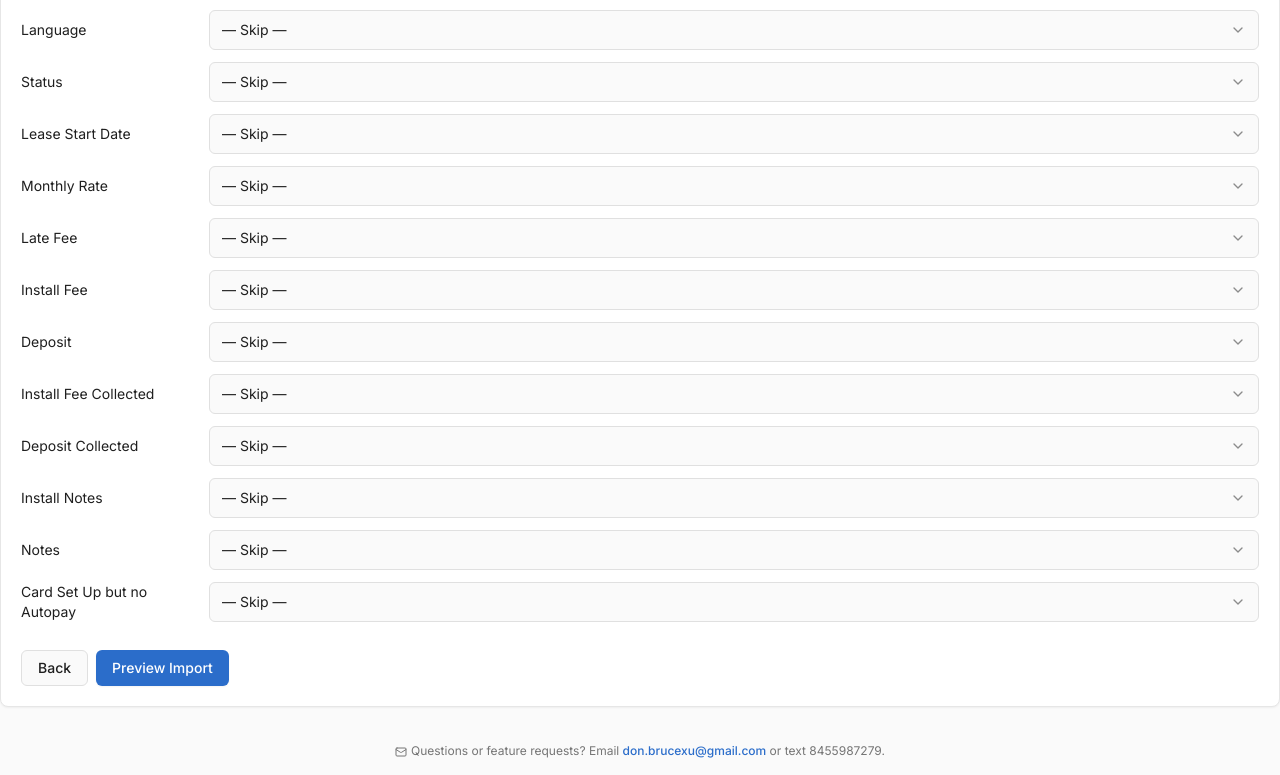
Test case: ImportPage › does not query for duplicates during preview and excludes removed rows from import payload
Earlier steps of the test are not shown.
Later steps or results of the test are not shown.
(page scrolled)
Step 1. Click the button "Preview Import" → click(162, 668), box [96,650,229,686]
(page scrolled)
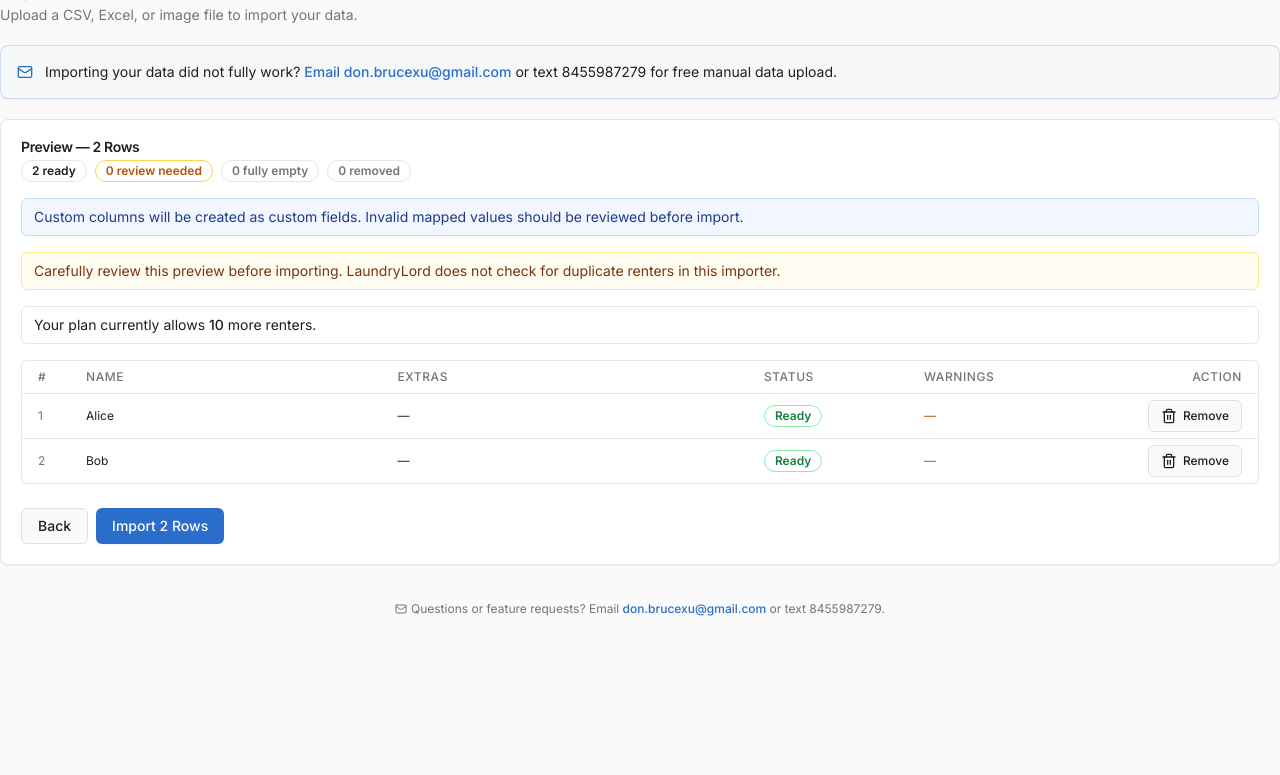
expect the text "Alice" is shown: met, box [70,393,381,438]
Step 2. Click the button "Remove" in the row of "Alice" → click(1195, 416), box [1148,400,1242,432]
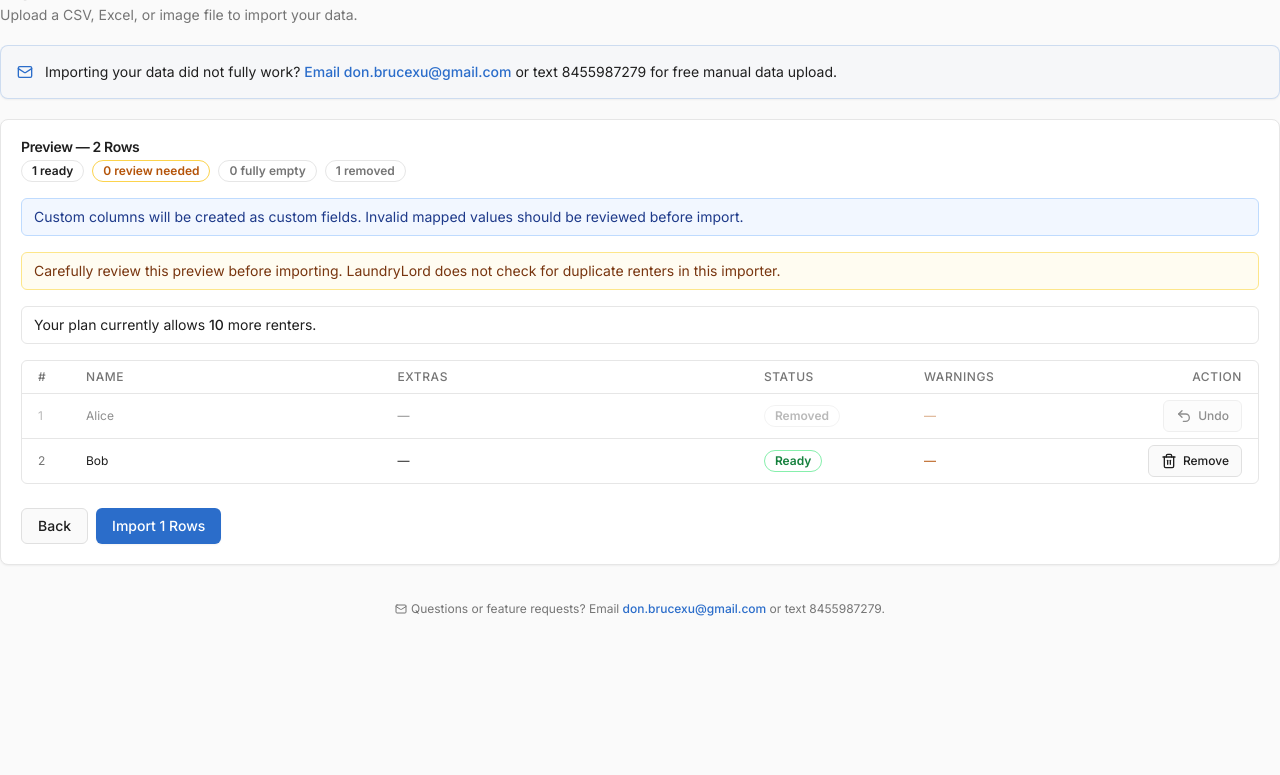
Step 3. Click the button "Import 1 Rows" → click(159, 526), box [96,508,221,544]
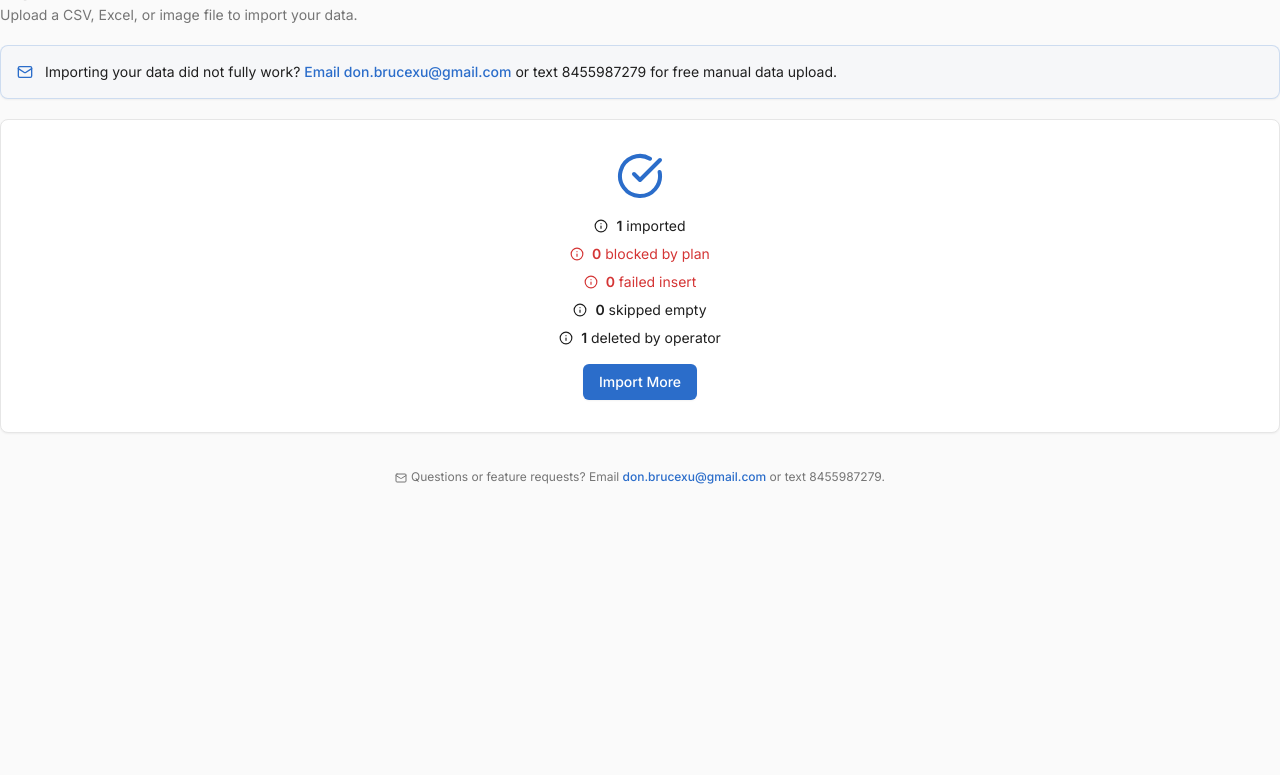
expect the button "Import More" is shown: met, box [583,364,697,400]
